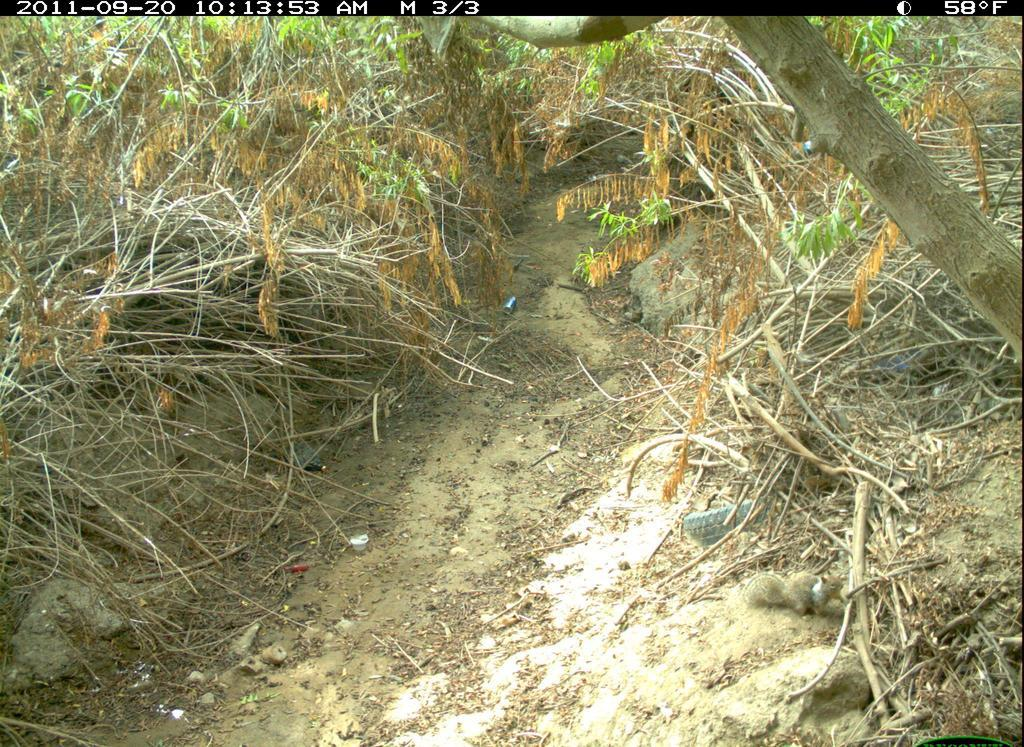squirrel: (722, 556, 852, 634)
